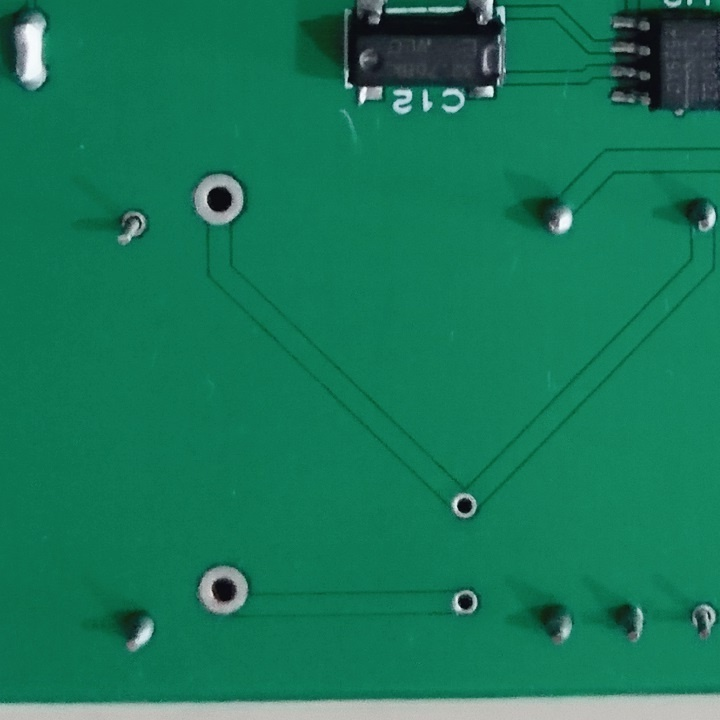F: (196, 561, 255, 618), (189, 172, 246, 229), (113, 206, 151, 252), (688, 600, 720, 640), (448, 587, 481, 619), (450, 493, 479, 525)
P: (7, 6, 53, 95)
